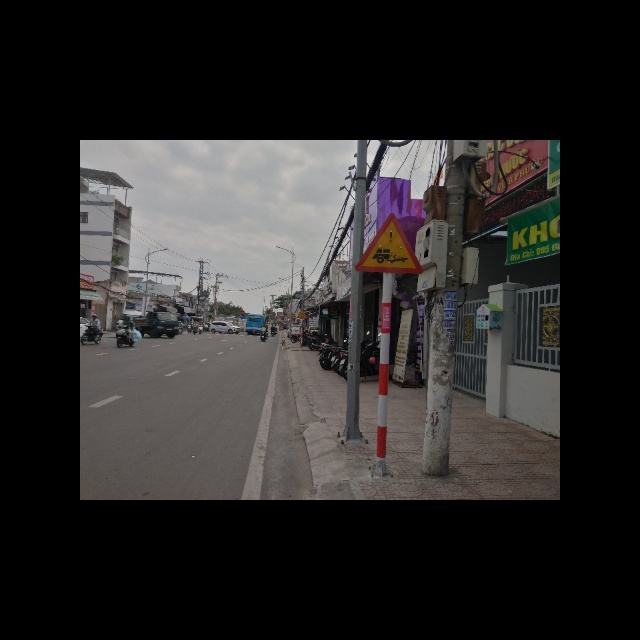Đoạn đường hay xảy ra tai nạn: (354, 208, 423, 274)
